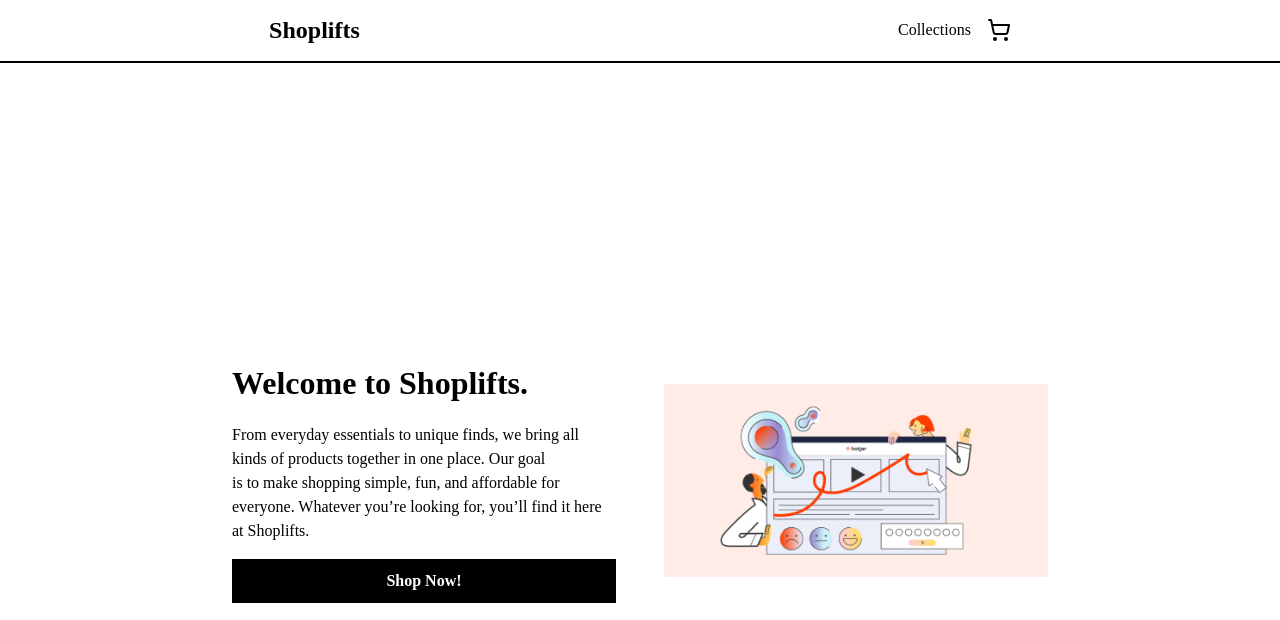
Scenario: Navigation Component › should be clickable, the links
Click the link "Collections": [934, 30] box [898,18,971,42]
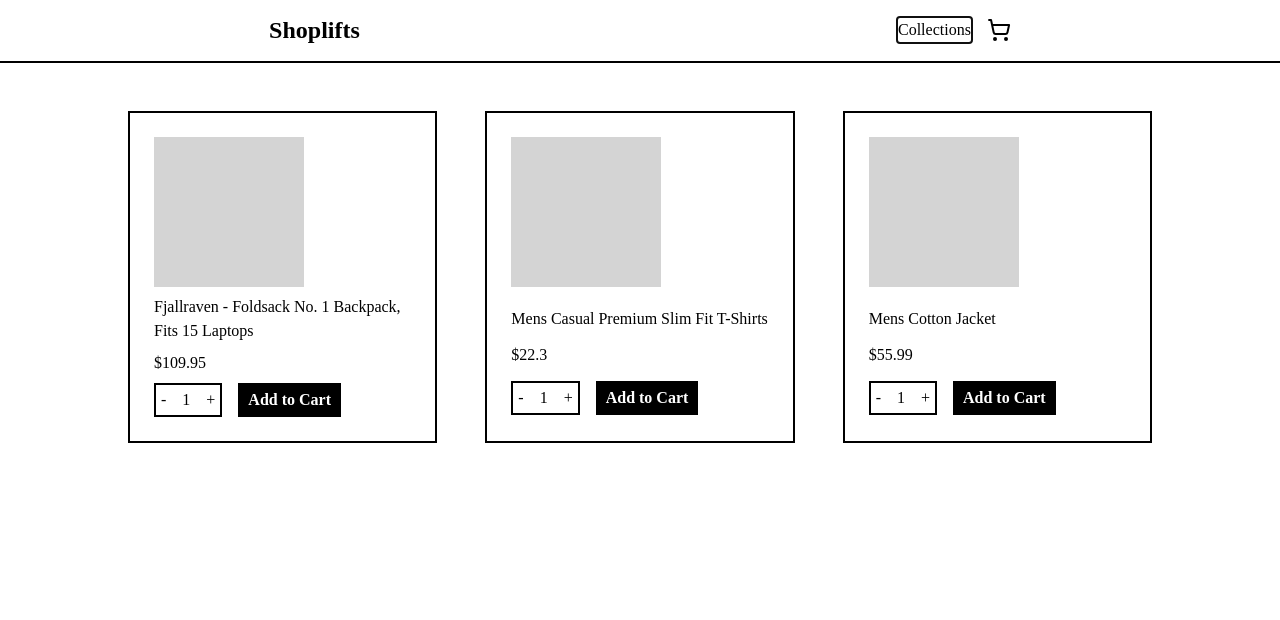
Check: the text "Mens Cotton Jacket" is shown, box [869,310,996,327]
Click the link with test id "checkoutLink": [999, 30] box [987,18,1011,42]
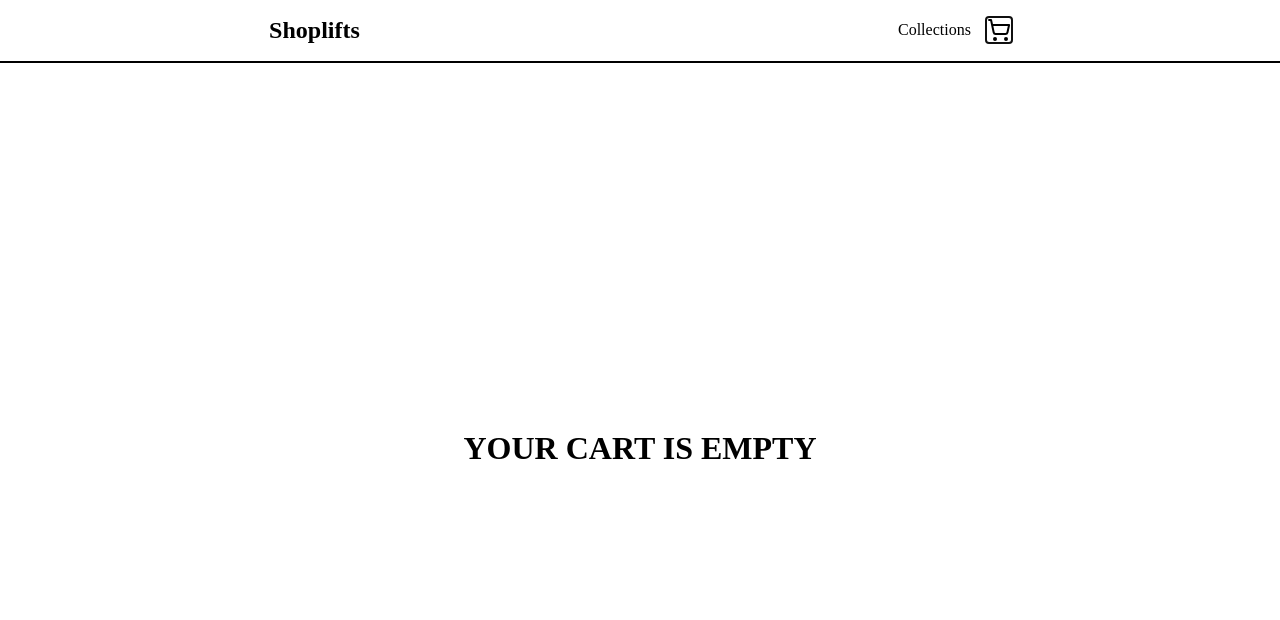
Check: the heading "YOUR CART IS EMPTY" is shown, box [464,424,816,472]
